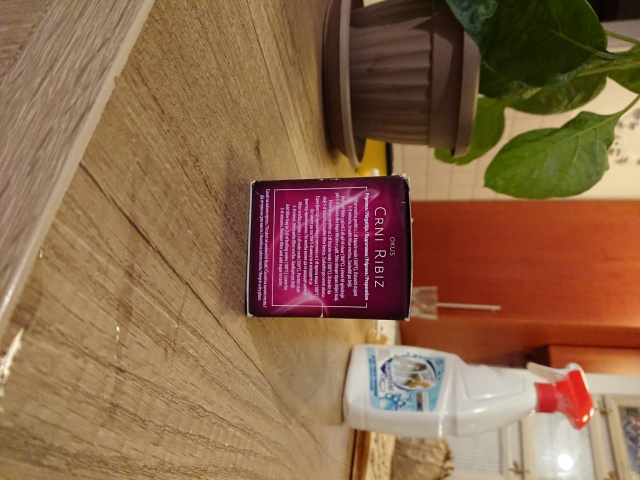Franck Black Currant Tea 60g: (241, 170, 416, 324)
